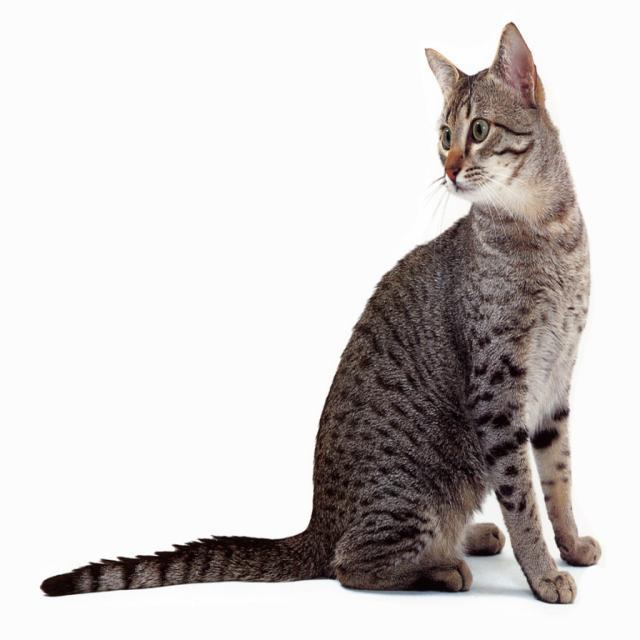Egyptian_Mau: (424, 22, 544, 199)
